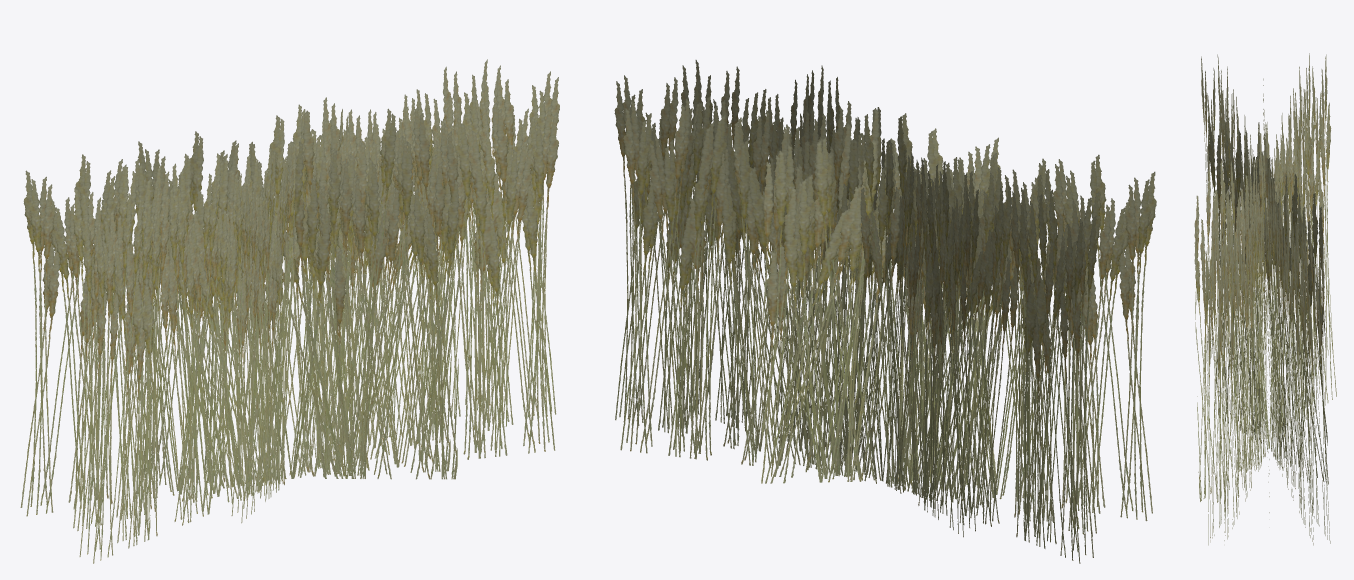
Rendered from WaterGrass_02_v01_01.obj.
3 views of the same model, side by side, from view 1: azimuth 30°, elevation 25°; view 2: azimuth 150°, elevation 25°; view 3: azimuth 270°, elevation 25° (orthographic). The views are drawn at different scales.
Parts seen in each view (by area): view 1: polySurface3; view 2: polySurface3; view 3: polySurface3.
Part boxes in pixels (bbox=[...]): polySurface3: bbox=[20, 59, 559, 563]; polySurface3: bbox=[614, 60, 1156, 563]; polySurface3: bbox=[1194, 53, 1336, 545].
Bounding box in the file's own units: 37.76 × 26.54 × 10.65.
1 material, 1 textured.
